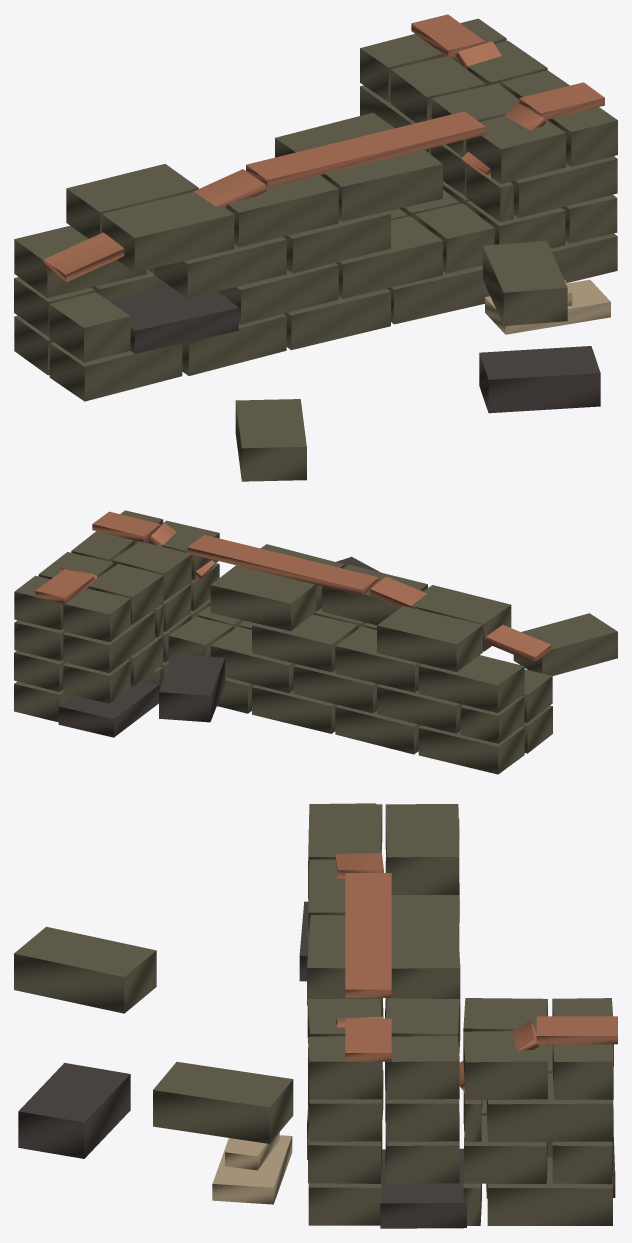
File: SM_SacosRemateEspejo_v3_Tablon_e1_Danado_LOD0.fbx
3 renders of one model, top to bottom at view 1: azimuth 30°, elevation 25°; view 2: azimuth 150°, elevation 25°; view 3: azimuth 270°, elevation 25°, orthographic. The views are drawn at different scales.
Parts seen in each view (by area): view 1: SM_sacos_piezas_v33_LOD0; view 2: SM_sacos_piezas_v33_LOD0; view 3: SM_sacos_piezas_v33_LOD0.
Part boxes in pixels (x1,y1,x2,y2): SM_sacos_piezas_v33_LOD0: (14,14,617,481); SM_sacos_piezas_v33_LOD0: (14,510,617,774); SM_sacos_piezas_v33_LOD0: (14,803,617,1228).
Bounding box in the file's own units: 4.46 × 1.26 × 3.9.
